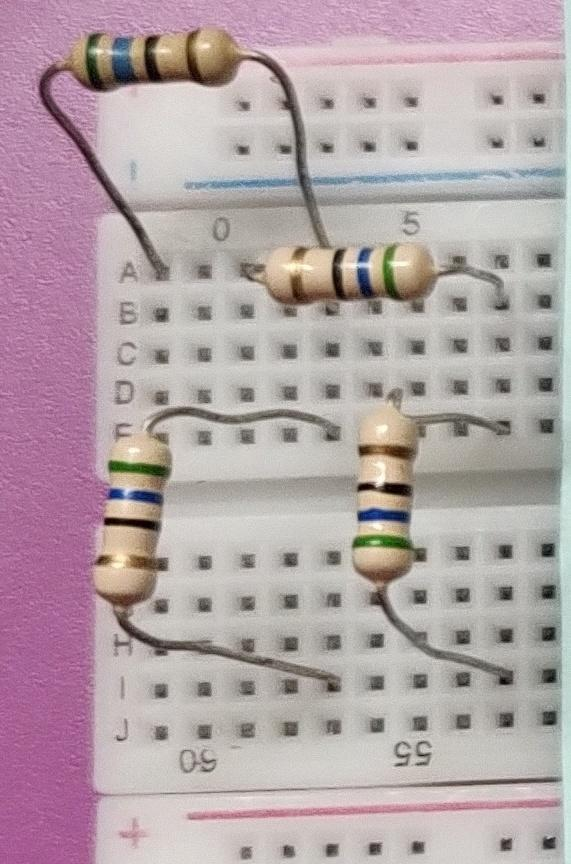resistor: (335, 397, 436, 605), (80, 410, 174, 630), (257, 230, 453, 312), (60, 17, 238, 102)
